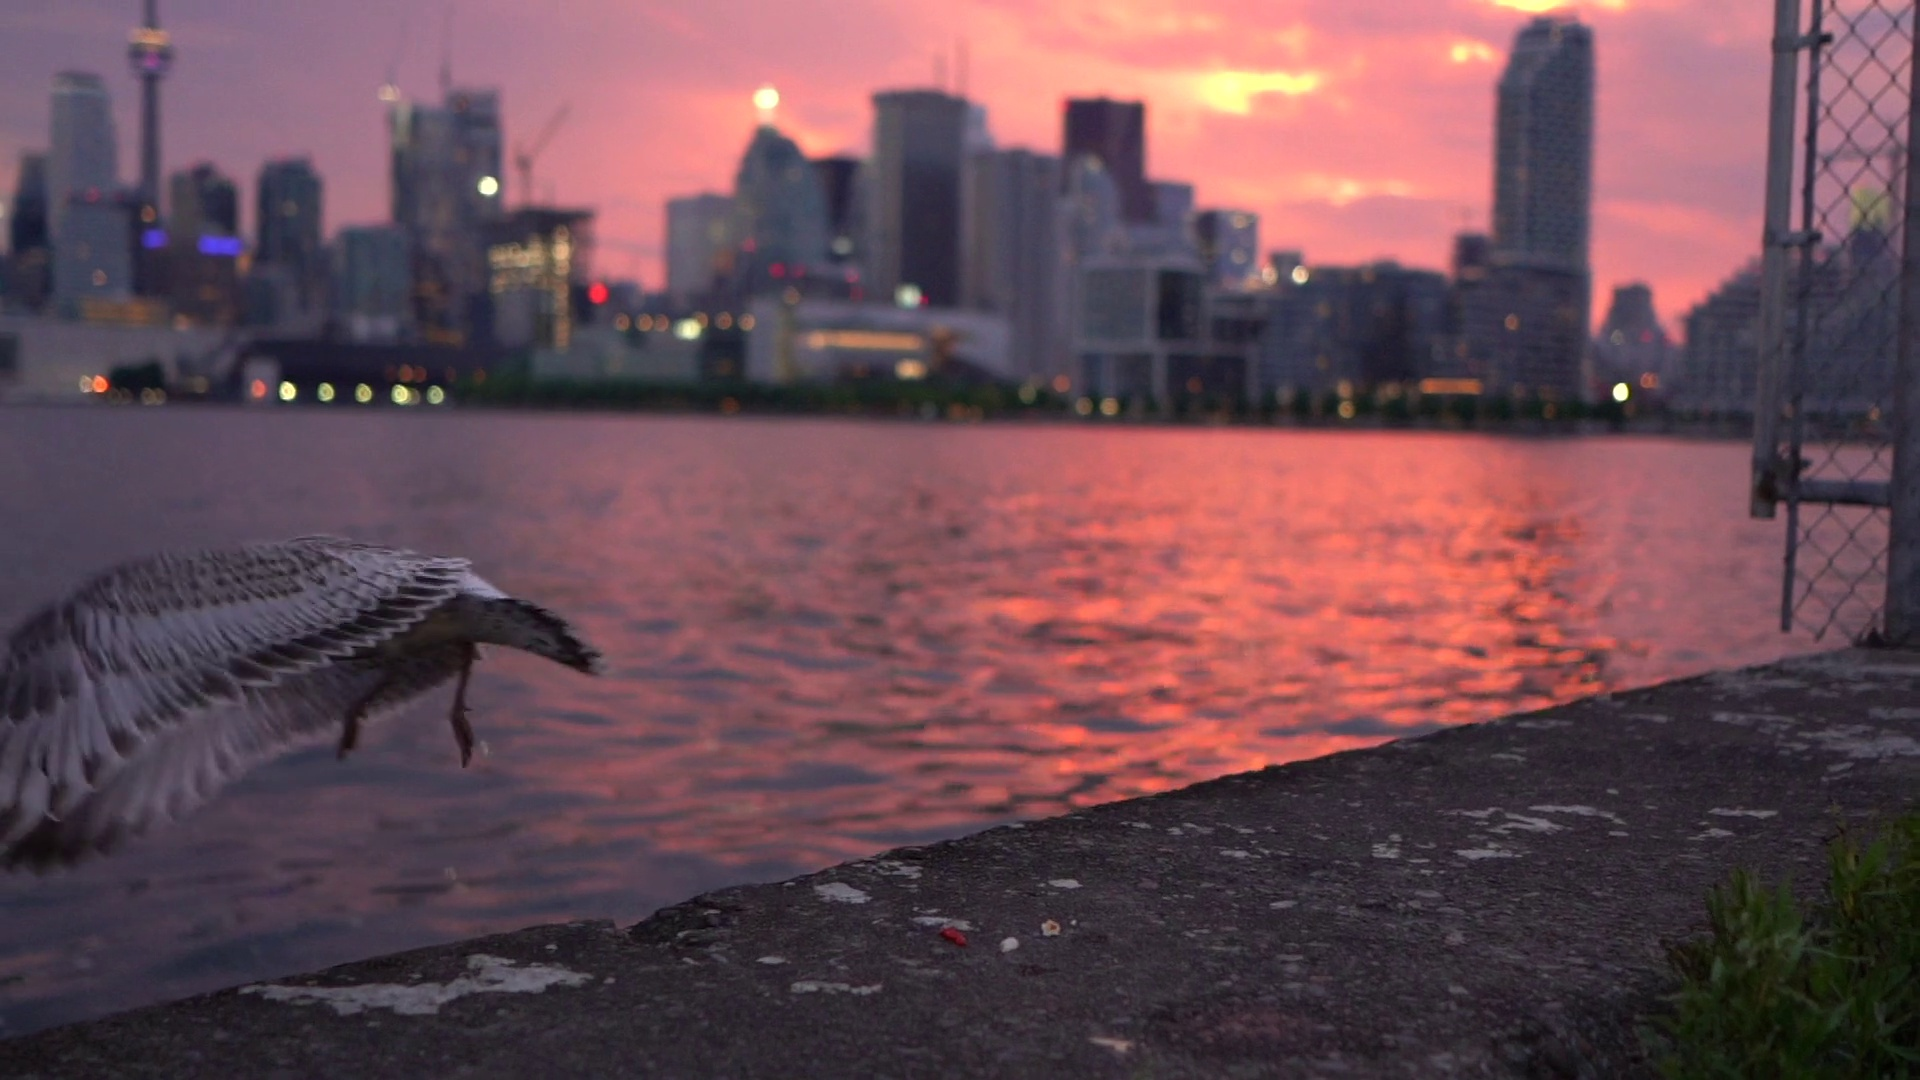bird: (1, 534, 611, 884)
